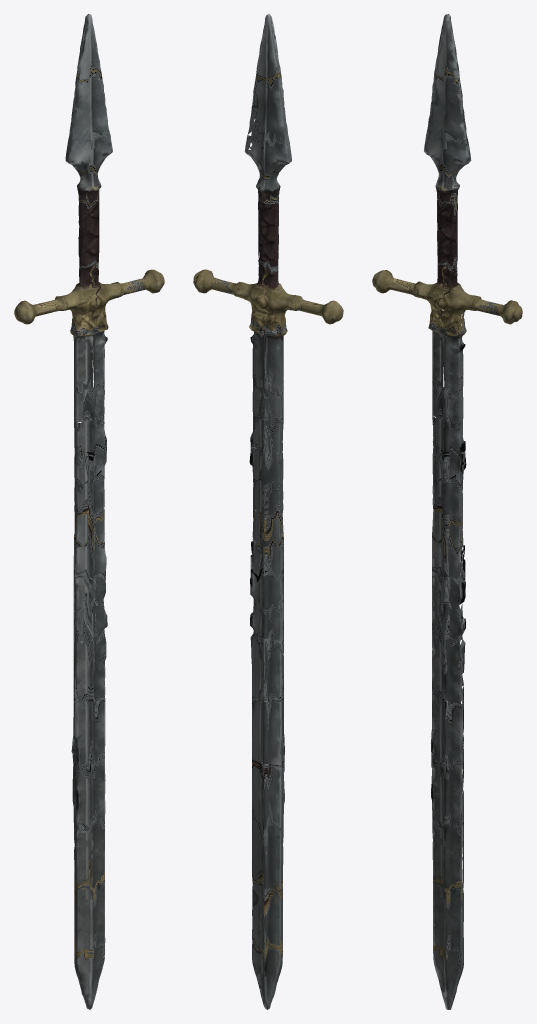
Rendered from w_marsh_blade.glb.
The picture shows the model from 3 angles, left to right: view 1: azimuth 30°, elevation 25°; view 2: azimuth 150°, elevation 25°; view 3: azimuth 330°, elevation 25°; orthographic projection.
Parts seen in each view (by area): view 1: geometry_0; view 2: geometry_0; view 3: geometry_0.
Part boxes in pixels (x1=…): geometry_0: x1=14, y1=14, x2=164, y2=1009; geometry_0: x1=193, y1=14, x2=343, y2=1009; geometry_0: x1=372, y1=14, x2=522, y2=1009.
Bounding box in the file's own units: 0.2291 × 1.5 × 0.0469.
1 material, 1 textured.
